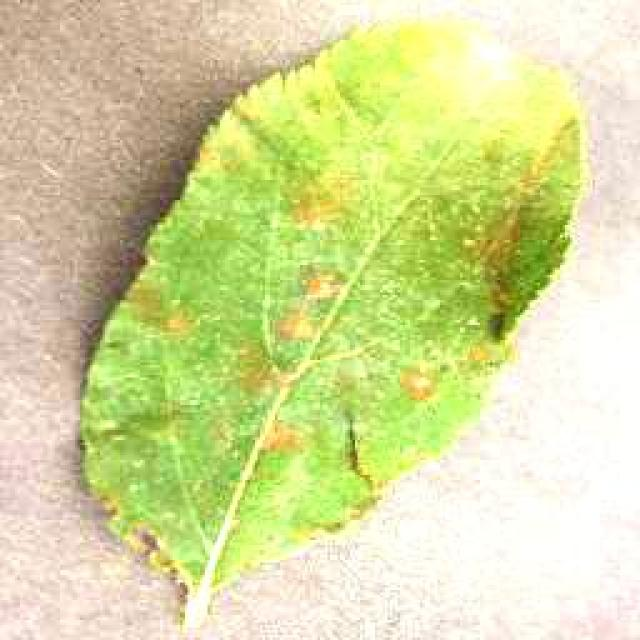apple rust disease: (75, 10, 590, 635)
